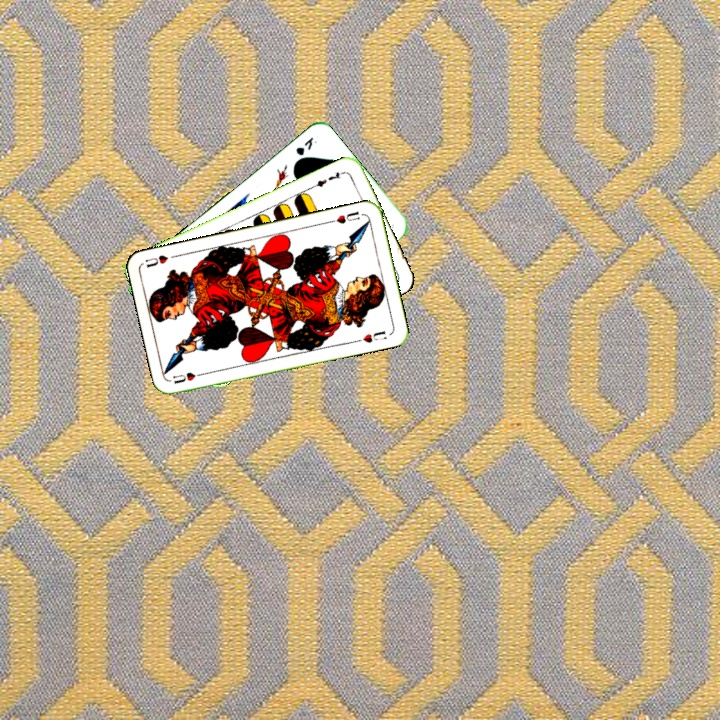E7: (309, 167, 347, 190)
GK: (292, 133, 320, 158)
HU: (169, 368, 208, 387), (325, 207, 362, 226)
